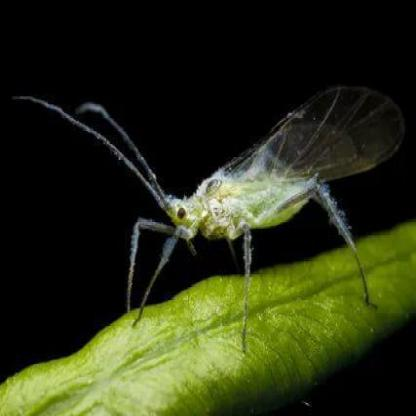aphid: (46, 77, 398, 309)
